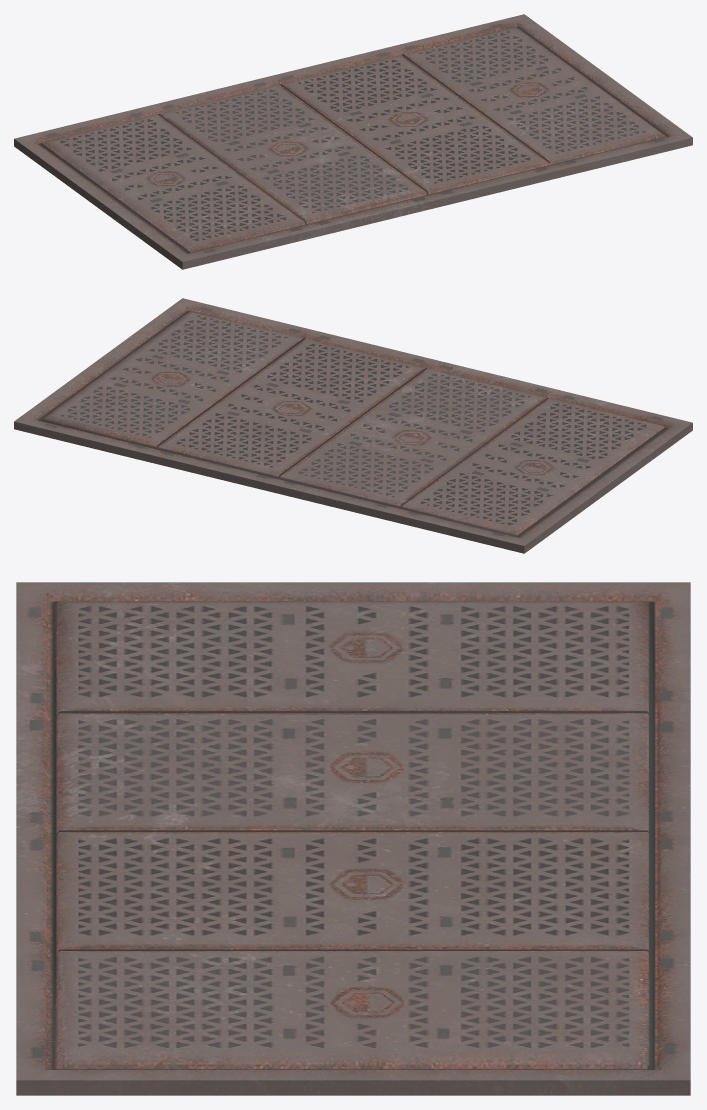
The model's file is Hatchway_03.fbx.
The picture shows the model from 3 angles, top to bottom: view 1: azimuth 30°, elevation 25°; view 2: azimuth 150°, elevation 25°; view 3: azimuth 270°, elevation 25°; orthographic projection. The views are drawn at different scales.
Parts seen in each view (by area): view 1: Hatchway_03_LOD0; view 2: Hatchway_03_LOD0; view 3: Hatchway_03_LOD0.
Boxes of the visible parts, x1,y1,x2,y2 form: Hatchway_03_LOD0: (14,14,692,269); Hatchway_03_LOD0: (14,298,692,553); Hatchway_03_LOD0: (16,582,690,1095).
Size of what is drawn, in the model's own units: 139 by 2.48 by 79.32.
